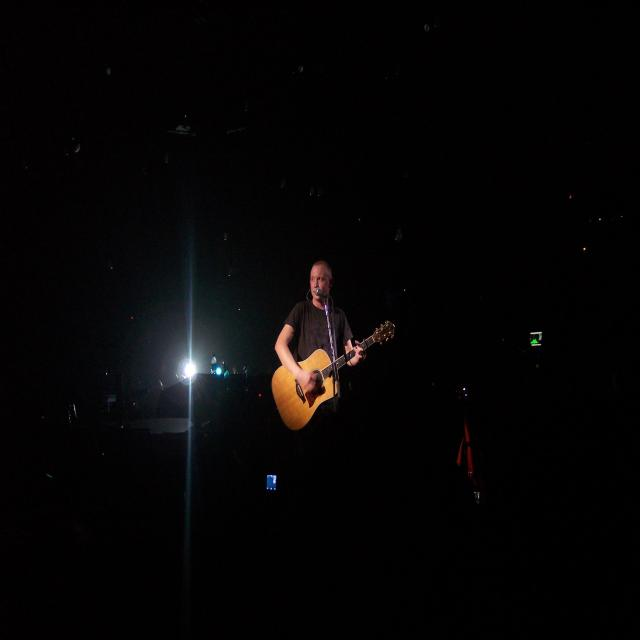guitar: (271, 317, 396, 434)
